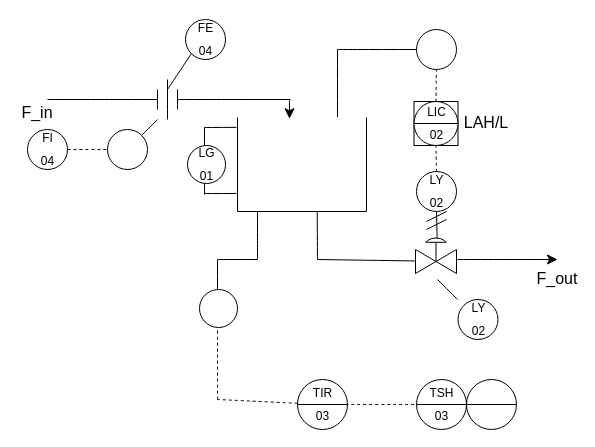
Image size: 595x447. Some labels were removed from this diagram. The centre of each missing label's shape, as x and y in pixels:
FT 04: [127,149]
LT 02: [436,49]
TAH 03: [491,404]
TT 03: [218,308]
